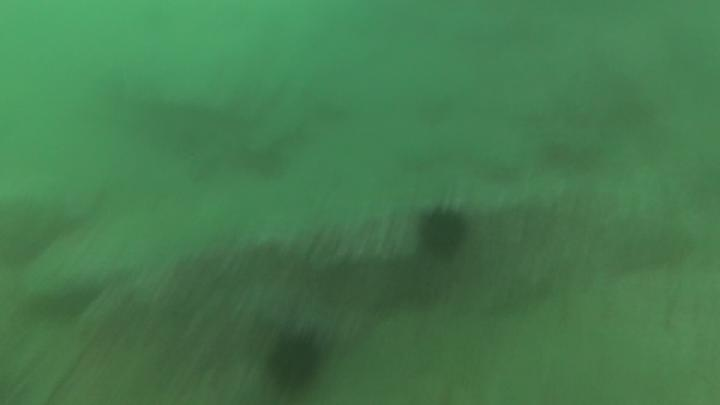echinus: (262, 331, 330, 397), (416, 203, 472, 263)
